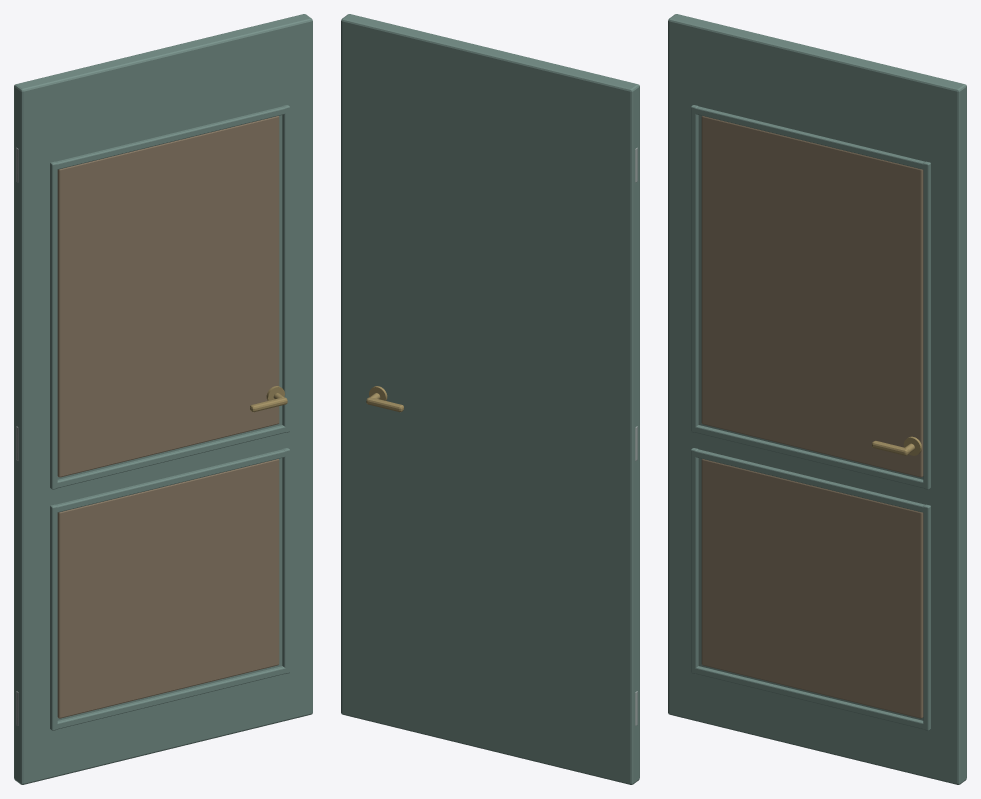
File: door_finish.glb
3 views of the same model, side by side, from view 1: azimuth 30°, elevation 25°; view 2: azimuth 150°, elevation 25°; view 3: azimuth 330°, elevation 25° (orthographic).
Visible parts, largest first — view 1: door_finish_椅面旧木, door_finish_旧绿漆; view 2: door_finish_旧绿漆; view 3: door_finish_椅面旧木, door_finish_旧绿漆, door_finish_旧黄铜.
Boxes of the visible parts, left/top/right/bottom form: door_finish_椅面旧木: left=57, top=116, right=279, bottom=718; door_finish_旧绿漆: left=14, top=14, right=312, bottom=784; door_finish_旧绿漆: left=341, top=14, right=639, bottom=784; door_finish_椅面旧木: left=701, top=116, right=923, bottom=718; door_finish_旧绿漆: left=668, top=14, right=966, bottom=784; door_finish_旧黄铜: left=872, top=436, right=921, bottom=455.
Bounding box in the file's own units: 0.902 × 2.05 × 0.191.
